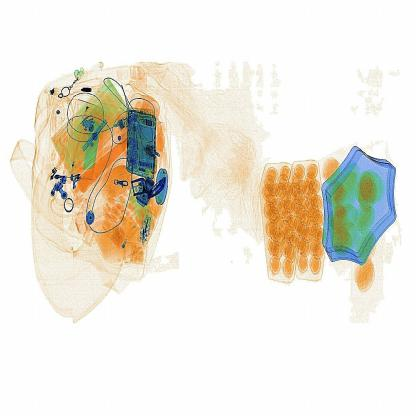knife: (144, 172, 176, 206)
